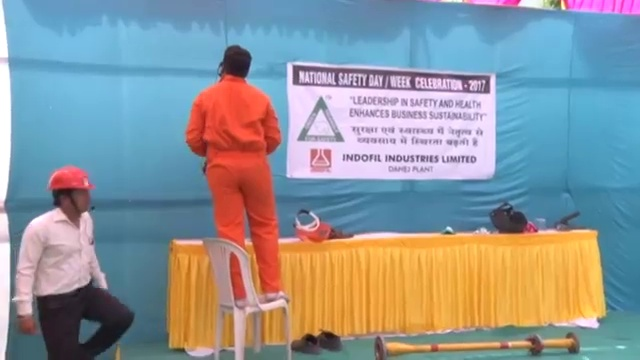helmet: (46, 162, 96, 194)
helmet_off: (216, 43, 253, 78)
helmet_on: (43, 161, 96, 220)
person: (188, 42, 295, 306), (10, 160, 135, 356)
